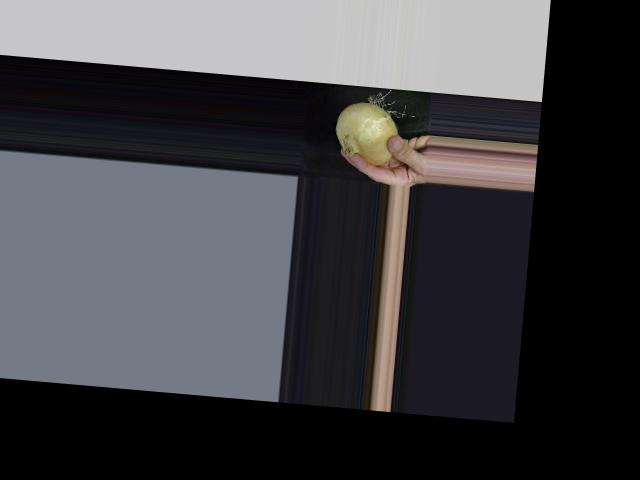onion: (334, 99, 399, 167)
